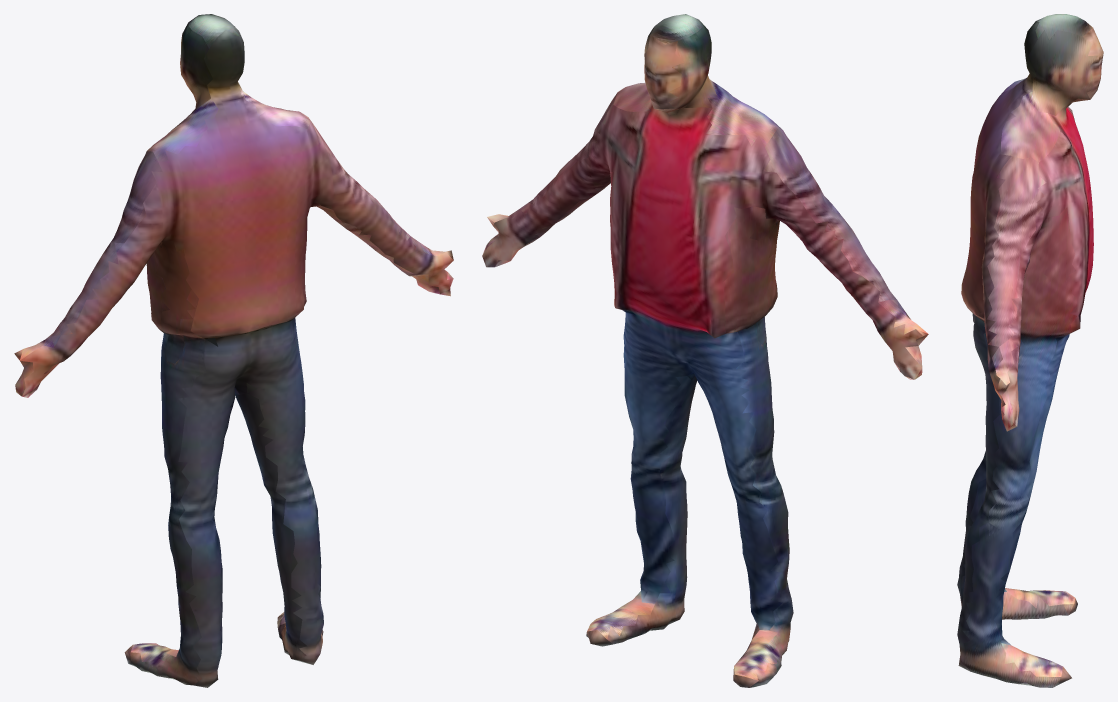
3 views of the same model, side by side, from view 1: azimuth 30°, elevation 25°; view 2: azimuth 150°, elevation 25°; view 3: azimuth 270°, elevation 25° (orthographic). The views are drawn at different scales.
Visible parts, largest first — view 1: world; view 2: world; view 3: world.
Part boxes in pixels (box(x1,y1,x2,y2)): world: box(14, 14, 453, 687); world: box(482, 14, 928, 687); world: box(957, 14, 1103, 687).
Size of the model in its own units: 0.7209 by 1 by 0.2112.
Materials: 1 (1 with a texture image).
